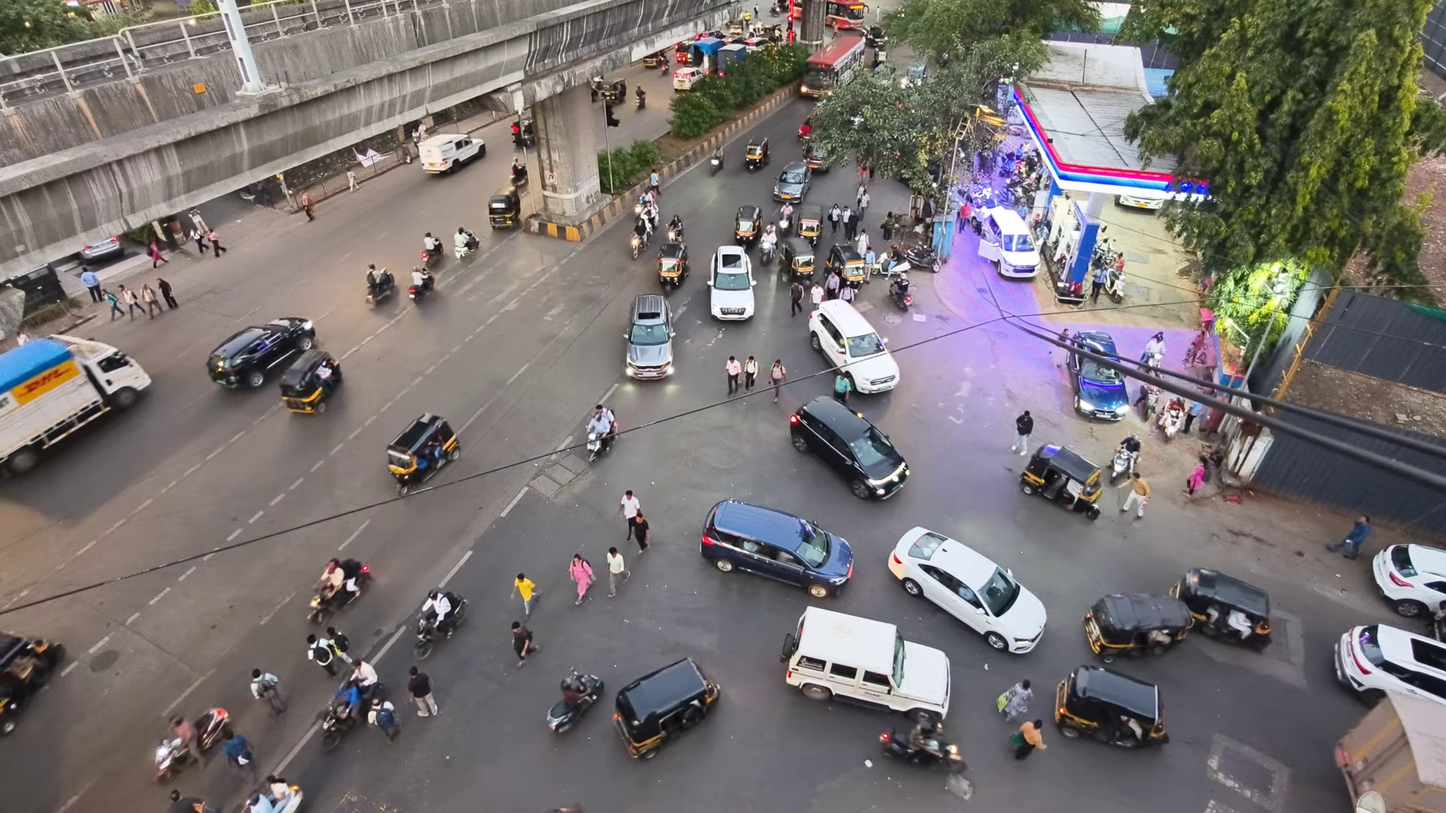driving: (0, 335, 151, 473), (887, 527, 1046, 653), (780, 606, 950, 720), (700, 500, 853, 598), (1335, 693, 1445, 812), (789, 396, 908, 498), (613, 659, 720, 758), (1054, 665, 1168, 748), (1334, 624, 1445, 703), (1170, 568, 1271, 650), (810, 300, 898, 393), (206, 317, 315, 388), (1082, 594, 1193, 662), (0, 632, 64, 736), (1020, 444, 1102, 519), (387, 413, 460, 495), (1371, 545, 1445, 617), (1066, 351, 1129, 420), (624, 294, 675, 379), (308, 559, 371, 624), (279, 348, 342, 413), (801, 35, 865, 98), (546, 667, 605, 734), (879, 727, 966, 772), (413, 592, 467, 660), (707, 245, 755, 320), (418, 134, 485, 172), (154, 734, 193, 781), (657, 240, 690, 288), (773, 161, 810, 203), (78, 236, 124, 262)
walking: (1326, 516, 1371, 559), (171, 716, 205, 766), (407, 665, 438, 716), (251, 669, 286, 714), (996, 679, 1032, 721), (223, 730, 256, 774), (1011, 720, 1046, 759), (1120, 472, 1149, 517), (368, 697, 398, 739), (307, 635, 337, 676), (511, 621, 538, 666), (606, 547, 630, 597), (569, 554, 593, 604), (512, 573, 539, 617), (619, 489, 640, 540), (1010, 410, 1033, 455), (169, 790, 214, 812), (325, 626, 352, 662), (117, 285, 145, 319), (1140, 332, 1166, 362), (1185, 456, 1205, 495), (80, 268, 102, 303), (632, 510, 649, 553), (1182, 400, 1203, 434), (770, 359, 786, 401), (102, 291, 125, 320), (142, 283, 161, 318), (157, 278, 178, 309), (1091, 266, 1108, 303), (725, 355, 741, 394), (833, 374, 852, 404), (148, 239, 167, 269), (207, 229, 227, 257), (743, 355, 758, 391), (790, 279, 804, 317), (840, 207, 856, 240), (957, 198, 972, 233), (190, 227, 208, 254), (300, 191, 315, 221), (824, 273, 840, 300), (858, 188, 871, 221), (810, 282, 825, 309), (880, 211, 893, 242), (828, 203, 840, 234), (856, 172, 866, 206), (839, 285, 856, 303), (346, 170, 358, 191), (1057, 347, 1069, 366)
